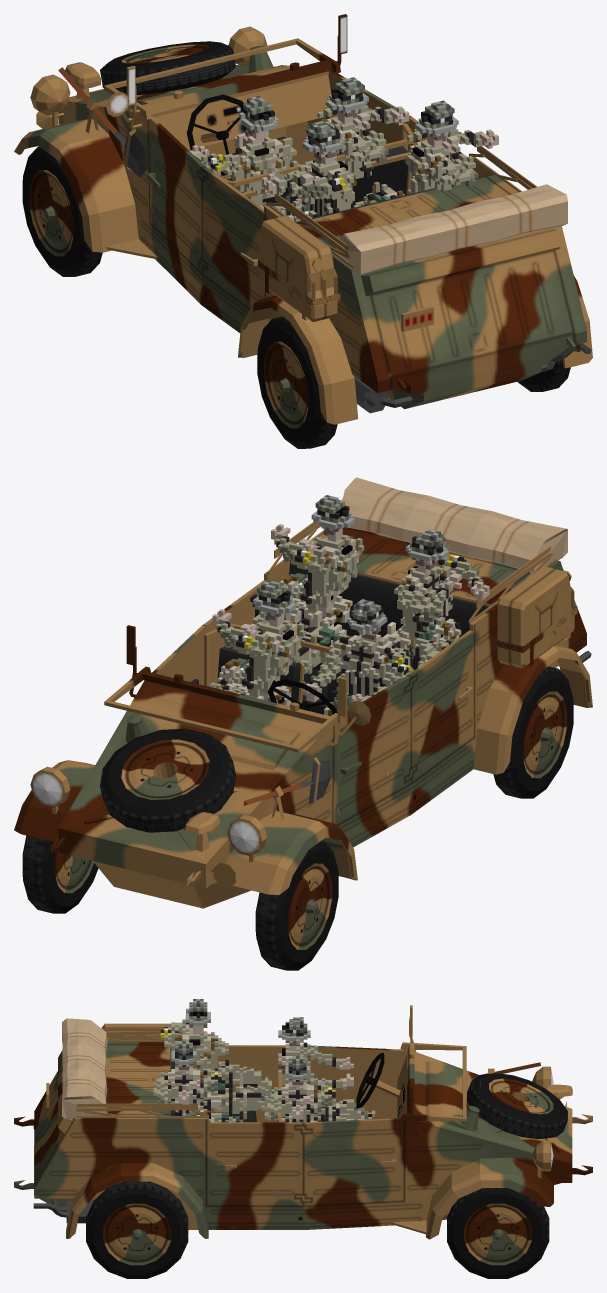
File: kubelwagen.glb
3 renders of one model, top to bottom at view 1: azimuth 30°, elevation 25°; view 2: azimuth 150°, elevation 25°; view 3: azimuth 270°, elevation 25°, orthographic. The views are drawn at different scales.
Parts seen in each view (by area): view 1: 00_chassis_kubelwagen_chassis.mesh, 04_tire_index_2_kubelwagen_wheel.mesh, 02_tire_index_0_kubelwagen_wheel.mesh, crew_soldier_SLOT_03_PASSENGER, crew_soldier_SLOT_02_PASSENGER, crew_soldier_SLOT_00_DRIVER, crew_soldier_SLOT_01_PASSENGER, 05_tire_index_3_kubelwagen_wheel.mesh; view 2: 00_chassis_kubelwagen_chassis.mesh, crew_soldier_SLOT_03_PASSENGER, crew_soldier_SLOT_02_PASSENGER, 02_tire_index_0_kubelwagen_wheel.mesh, crew_soldier_SLOT_01_PASSENGER, 04_tire_index_2_kubelwagen_wheel.mesh, crew_soldier_SLOT_00_DRIVER, 03_tire_index_1_kubelwagen_wheel.mesh; view 3: 00_chassis_kubelwagen_chassis.mesh, 05_tire_index_3_kubelwagen_wheel.mesh, 03_tire_index_1_kubelwagen_wheel.mesh, crew_soldier_SLOT_02_PASSENGER, crew_soldier_SLOT_03_PASSENGER, crew_soldier_SLOT_00_DRIVER, crew_soldier_SLOT_01_PASSENGER.
Boxes of the visible parts, <box> form: 00_chassis_kubelwagen_chassis.mesh: <box>14,14,592,424</box>; 04_tire_index_2_kubelwagen_wheel.mesh: <box>257,316,337,448</box>; 02_tire_index_0_kubelwagen_wheel.mesh: <box>22,146,102,276</box>; crew_soldier_SLOT_03_PASSENGER: <box>353,100,498,207</box>; crew_soldier_SLOT_02_PASSENGER: <box>260,121,356,221</box>; crew_soldier_SLOT_00_DRIVER: <box>151,96,296,237</box>; crew_soldier_SLOT_01_PASSENGER: <box>288,77,409,179</box>; 05_tire_index_3_kubelwagen_wheel.mesh: <box>517,359,570,391</box>; 00_chassis_kubelwagen_chassis.mesh: <box>14,477,592,908</box>; crew_soldier_SLOT_03_PASSENGER: <box>250,495,364,690</box>; crew_soldier_SLOT_02_PASSENGER: <box>382,529,489,675</box>; 02_tire_index_0_kubelwagen_wheel.mesh: <box>255,840,338,970</box>; crew_soldier_SLOT_01_PASSENGER: <box>191,580,305,705</box>; 04_tire_index_2_kubelwagen_wheel.mesh: <box>493,666,573,798</box>; crew_soldier_SLOT_00_DRIVER: <box>303,599,410,815</box>; 03_tire_index_1_kubelwagen_wheel.mesh: <box>22,835,98,913</box>; 00_chassis_kubelwagen_chassis.mesh: <box>14,1005,592,1239</box>; 05_tire_index_3_kubelwagen_wheel.mesh: <box>86,1181,188,1278</box>; 03_tire_index_1_kubelwagen_wheel.mesh: <box>447,1188,549,1278</box>; crew_soldier_SLOT_02_PASSENGER: <box>160,999,277,1121</box>; crew_soldier_SLOT_03_PASSENGER: <box>153,1041,279,1195</box>; crew_soldier_SLOT_00_DRIVER: <box>278,1017,375,1121</box>; crew_soldier_SLOT_01_PASSENGER: <box>267,1056,335,1122</box>.
Size of the model in its own units: 2.1 by 2.02 by 5.04.
37 materials, 1 textured.
